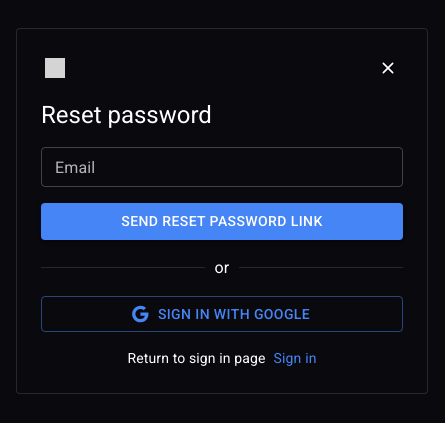
Scenario: Signin page › Should show validation error if invalid email type
// Simulate user typing in inputs
Click the field labelled "Email".
click(222, 167)  # box [41,147,403,187]
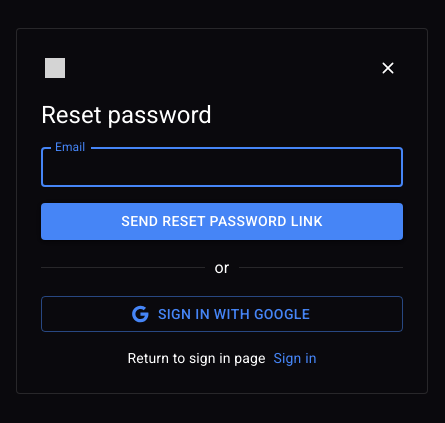
Type keys "incorrect email type"
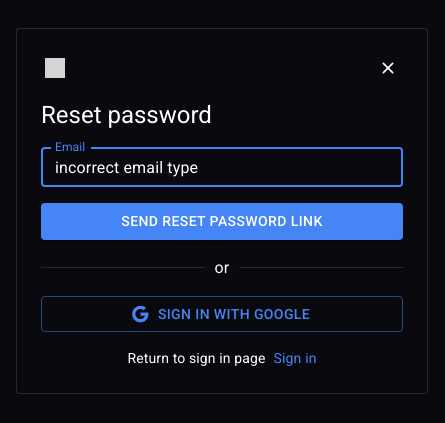
Press Tab
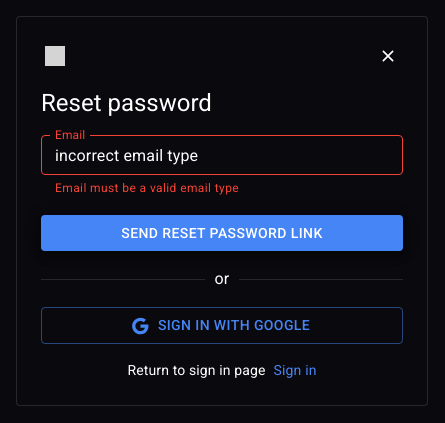
Expected: the text "Email must be a valid email type" is shown, [55,181,239,195]
